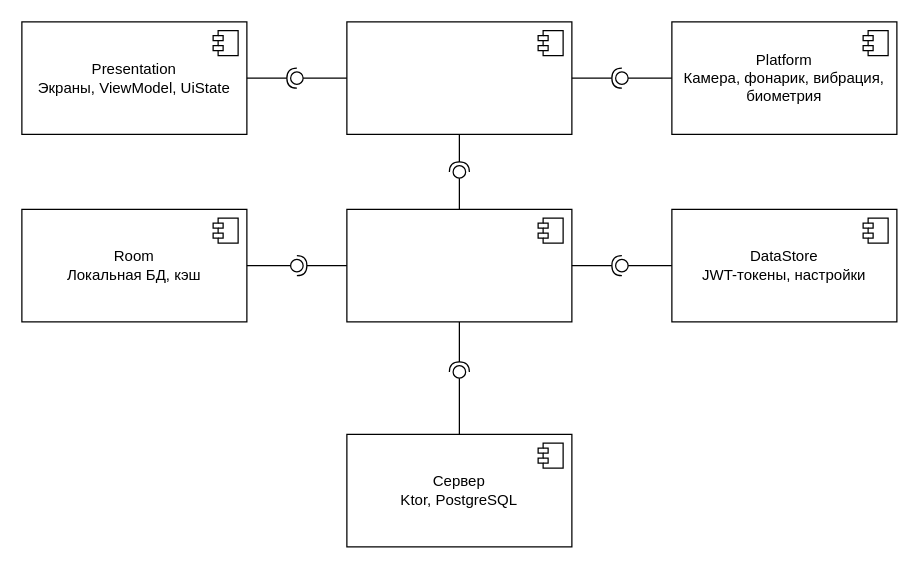
The diagram is 919 pixels wide and 569 high, and some of its shapes have lost their labels. Here are the shapes that lost their labels. From the top down, the centre of each, then its label:
(459,77): Domain Use cases, сущности
(459,265): Data Репозитории, DTO, мапперы, Retrofit
